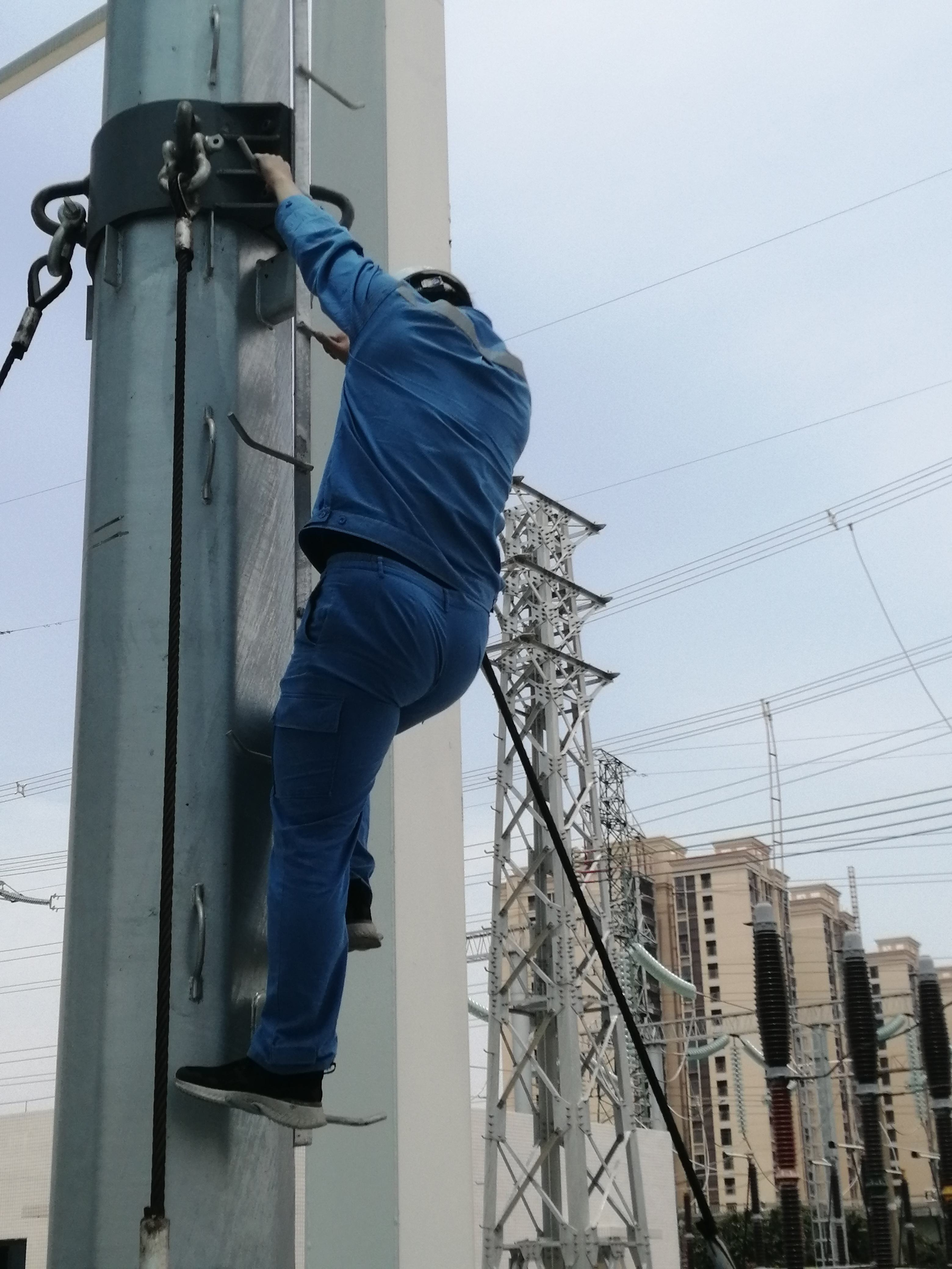未系安全绳的工作人员: (171, 150, 534, 1131)
